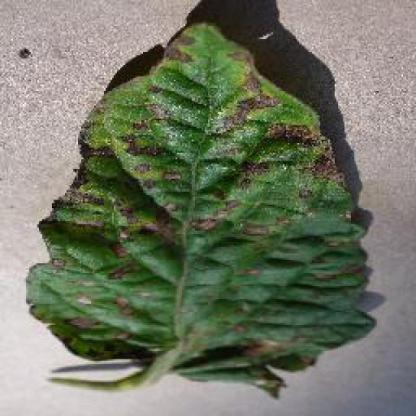Tomato_Blight: (24, 23, 382, 388)
